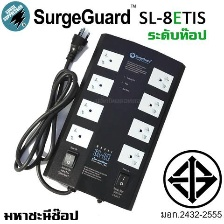three_eye_plug: (41, 29, 188, 213)
